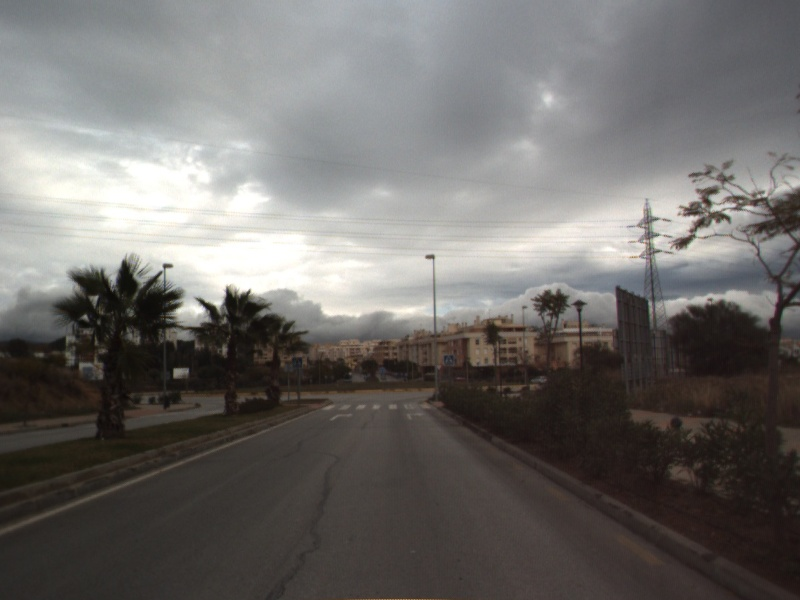RIGHT: (328, 411, 355, 422), (404, 410, 427, 422)
